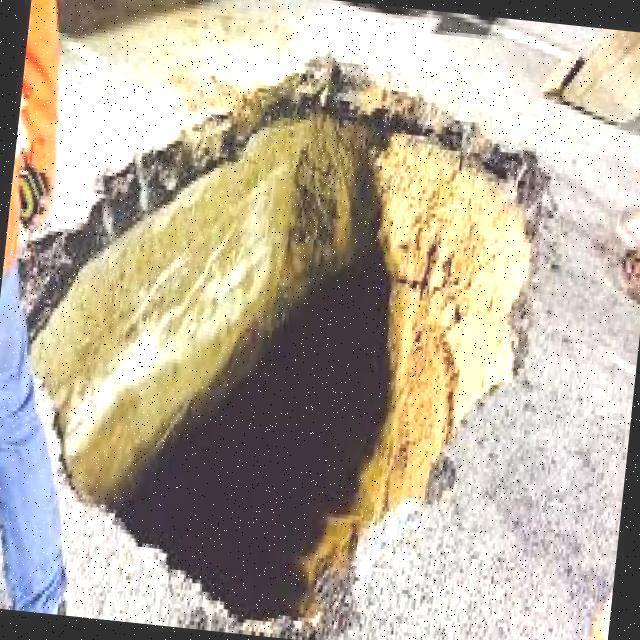pothole: (31, 52, 547, 637)
